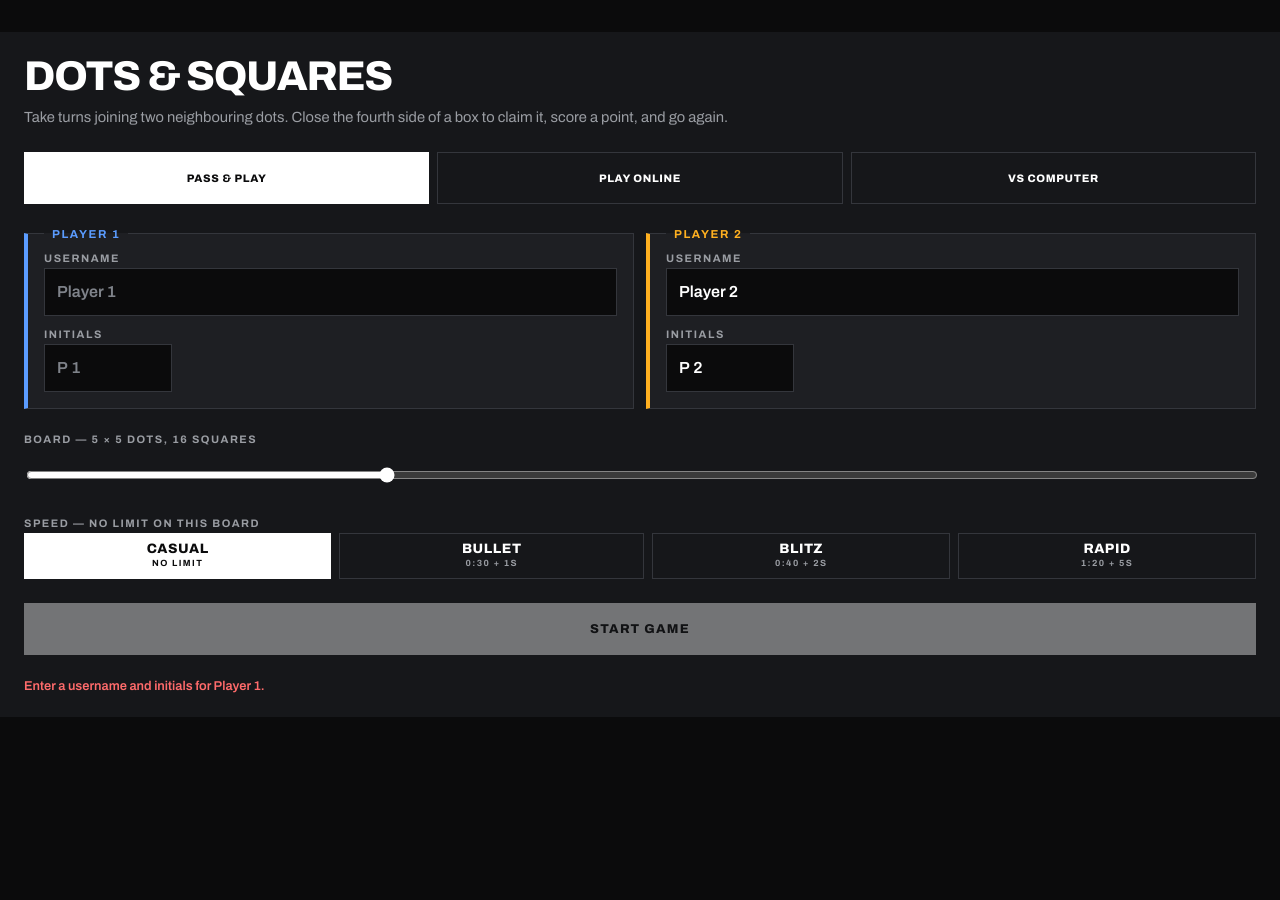
Scenario: BUG-003 — two players, one set of initials › refuses a start where the scoreboard could not tell them apart
Type "Firas" into the 1st field labelled "Username" at (330, 292), box [44,268,617,316]
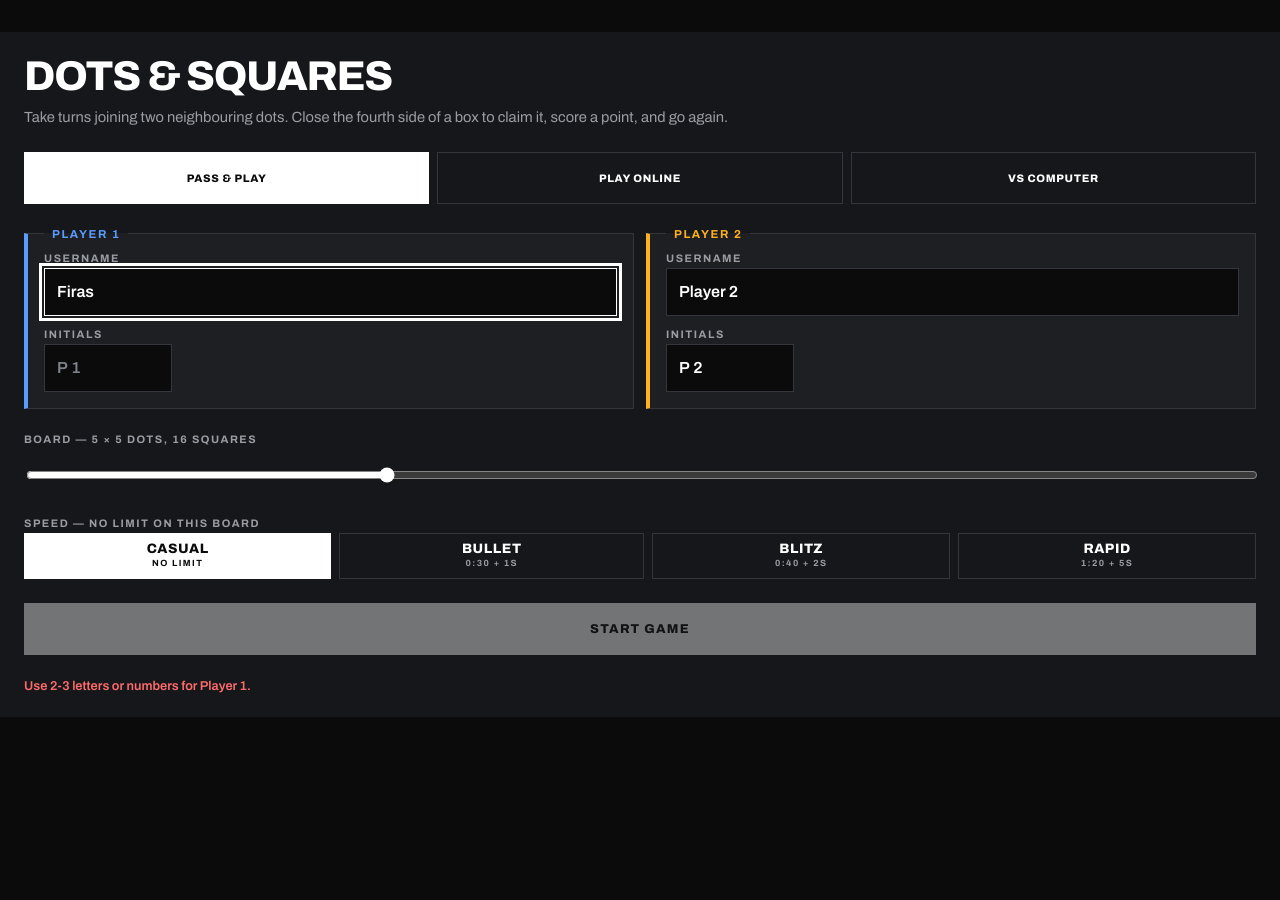
Type "FA" into the 1st field labelled "Initials" at (108, 368), box [44,344,172,392]
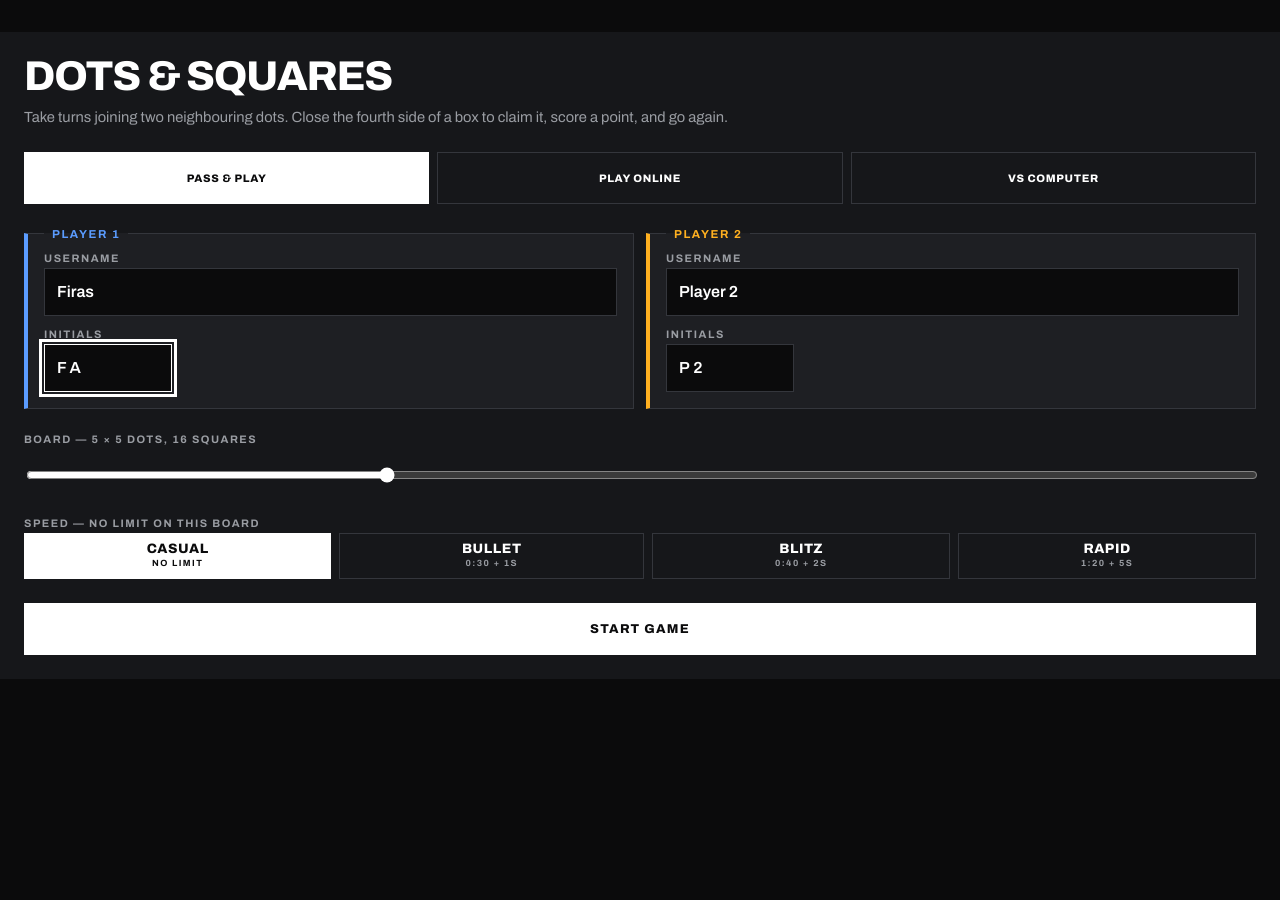
Type "Sam" into the field labelled "Username" below "Player 2" at (952, 292), box [666,268,1239,316]
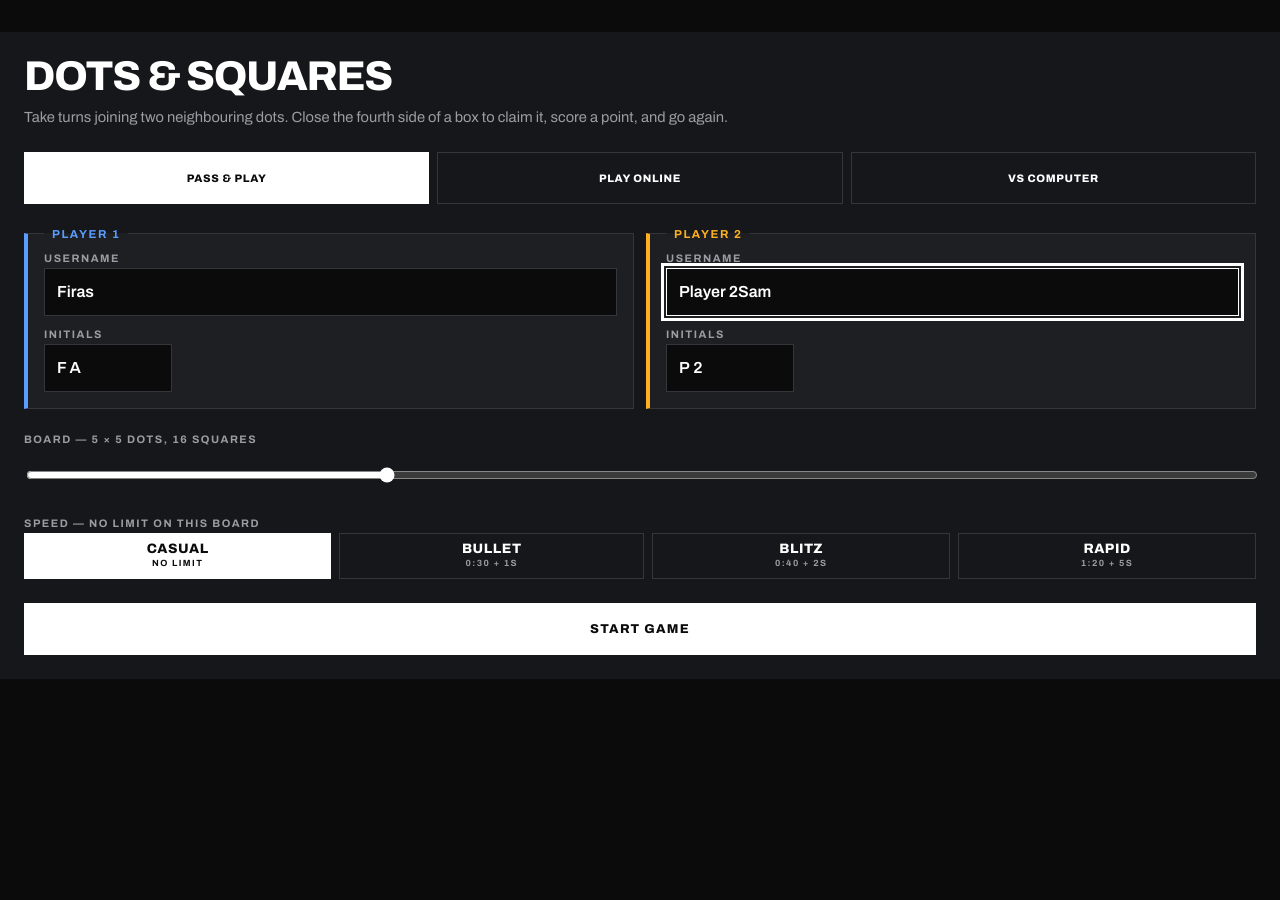
Type "FA" into the field labelled "Initials" below "Player 2" at (730, 368), box [666,344,794,392]
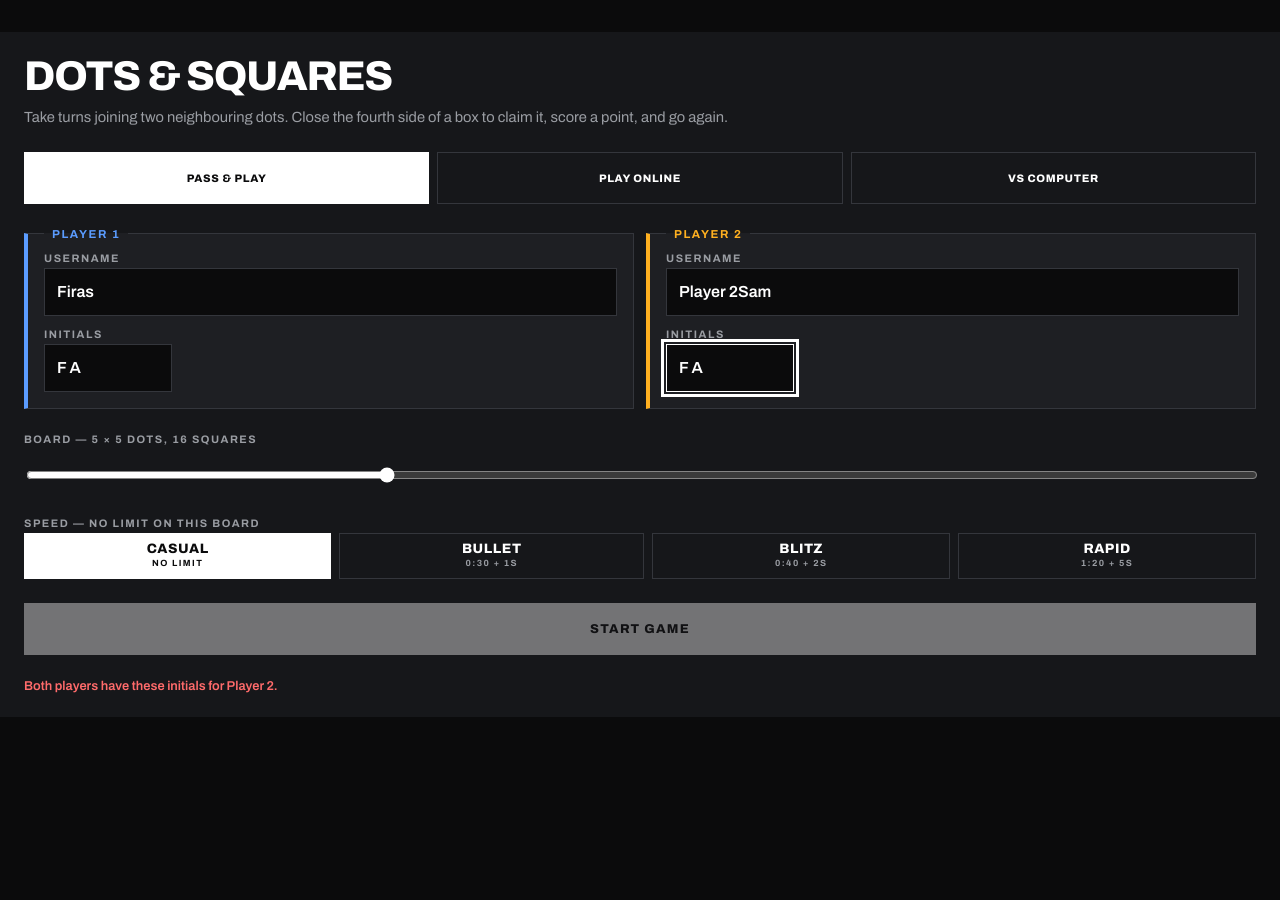
Expected: the button "Start Game" is disabled, [24,603,1256,655]
Expected: the text "Both players have these initials for Player 2." is shown, [24,679,278,693]
